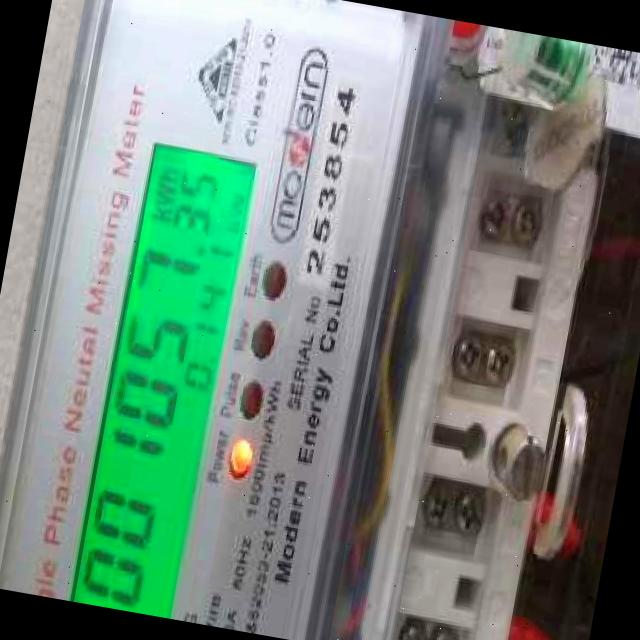LCD: (66, 127, 262, 620)
